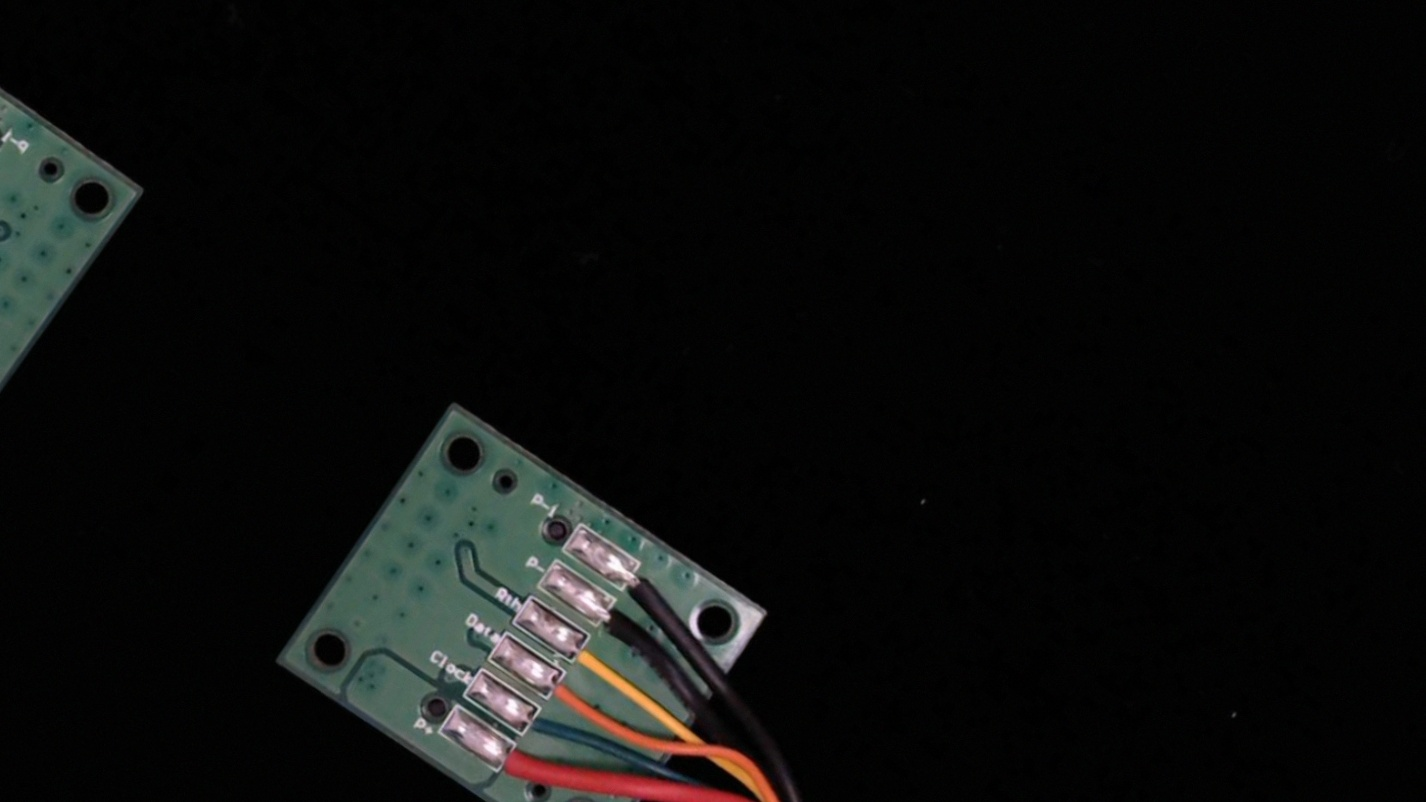Black: (579, 589, 660, 659)
Black1: (606, 549, 691, 623)
Green: (499, 694, 579, 763)
Orange: (526, 660, 604, 728)
Red: (474, 729, 562, 802)
Yellow: (554, 625, 636, 695)
